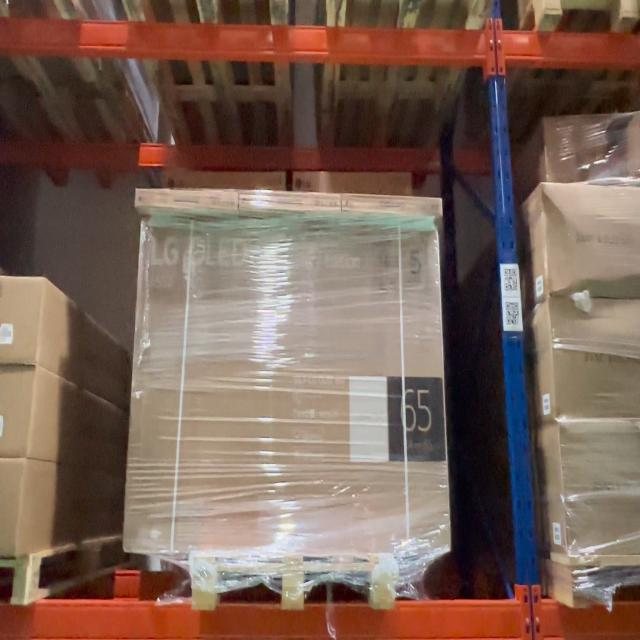box: (151, 233, 437, 536), (556, 424, 636, 556), (552, 300, 640, 418), (548, 184, 638, 295), (544, 115, 636, 180), (139, 187, 241, 214), (238, 189, 342, 214), (344, 195, 445, 216)
